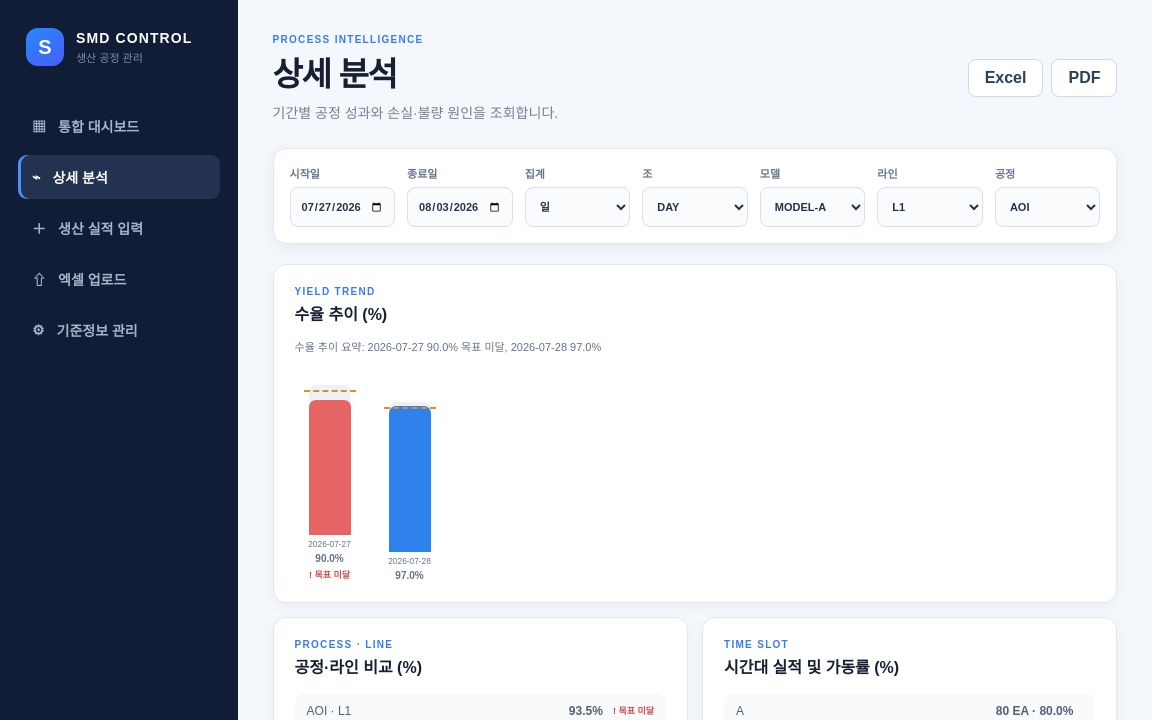
Test: AnalysisPage › invalidates stale data immediately and cannot export it while new filters load
Expected: the element "수율 추이 (%)" is shown, top-left (272, 264), bottom-right (1117, 603)
Expected: the button "Excel" is enabled, top-left (968, 59), bottom-right (1043, 97)
Select "주" in the dropdown labelled "집계" at (578, 207), box top-left (525, 187), bottom-right (630, 227)
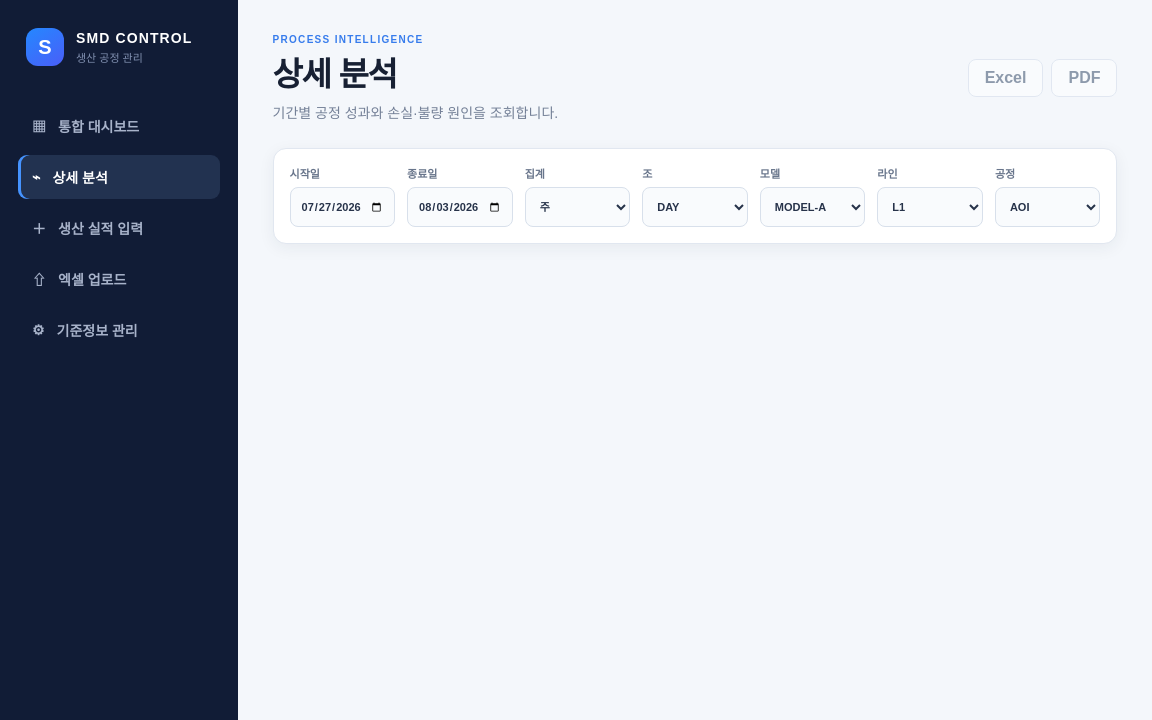
Now the button "Excel" is disabled
Click the button "Excel".
click(1006, 78)  # box top-left (968, 59), bottom-right (1043, 97)
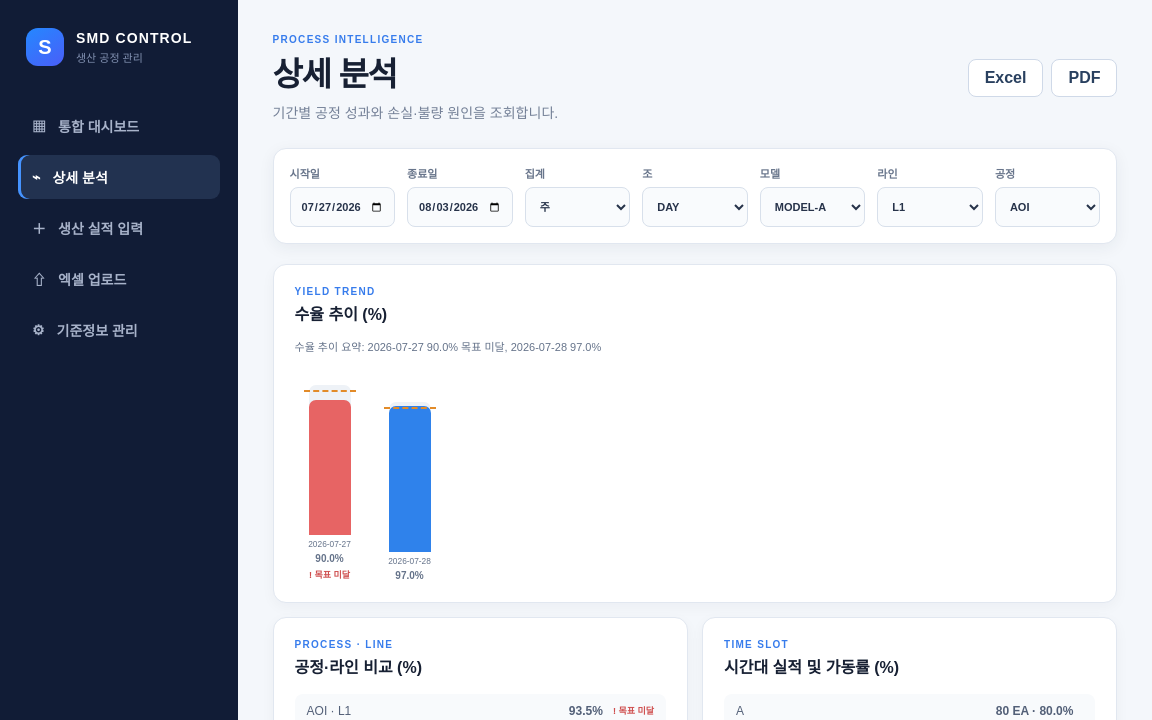
Now the button "Excel" is enabled, box top-left (968, 59), bottom-right (1043, 97)
